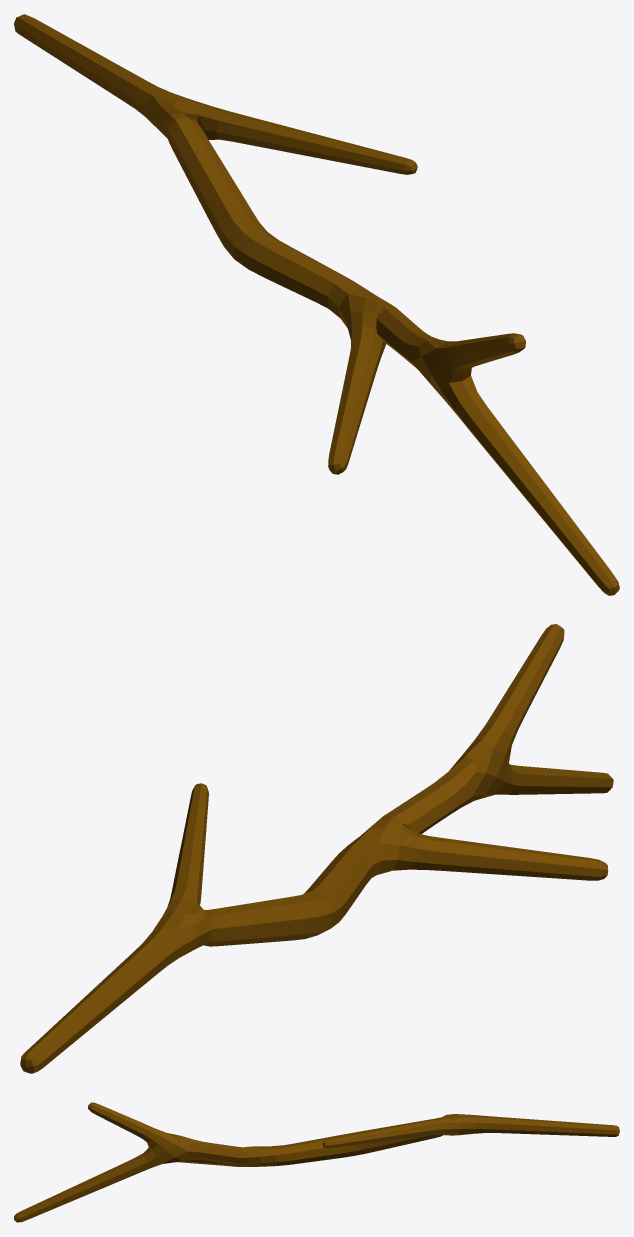
The model's file is Branch 3.fbx.
3 views of the same model, one above another, from view 1: azimuth 30°, elevation 25°; view 2: azimuth 150°, elevation 25°; view 3: azimuth 270°, elevation 25° (orthographic). The views are drawn at different scales.
Visible parts, largest first — view 1: Plane.001; view 2: Plane.001; view 3: Plane.001.
Part boxes in pixels (x1,y1,x2,y2): Plane.001: [14, 14, 619, 595]; Plane.001: [20, 624, 613, 1073]; Plane.001: [14, 1102, 619, 1222].
Bounding box in the file's own units: 51.42 × 43.93 × 213.
